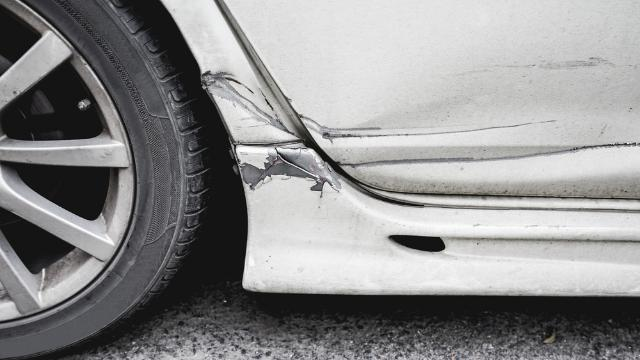crack: (259, 146, 320, 178)
scratch: (297, 113, 640, 173), (202, 67, 299, 148), (234, 147, 342, 199)
